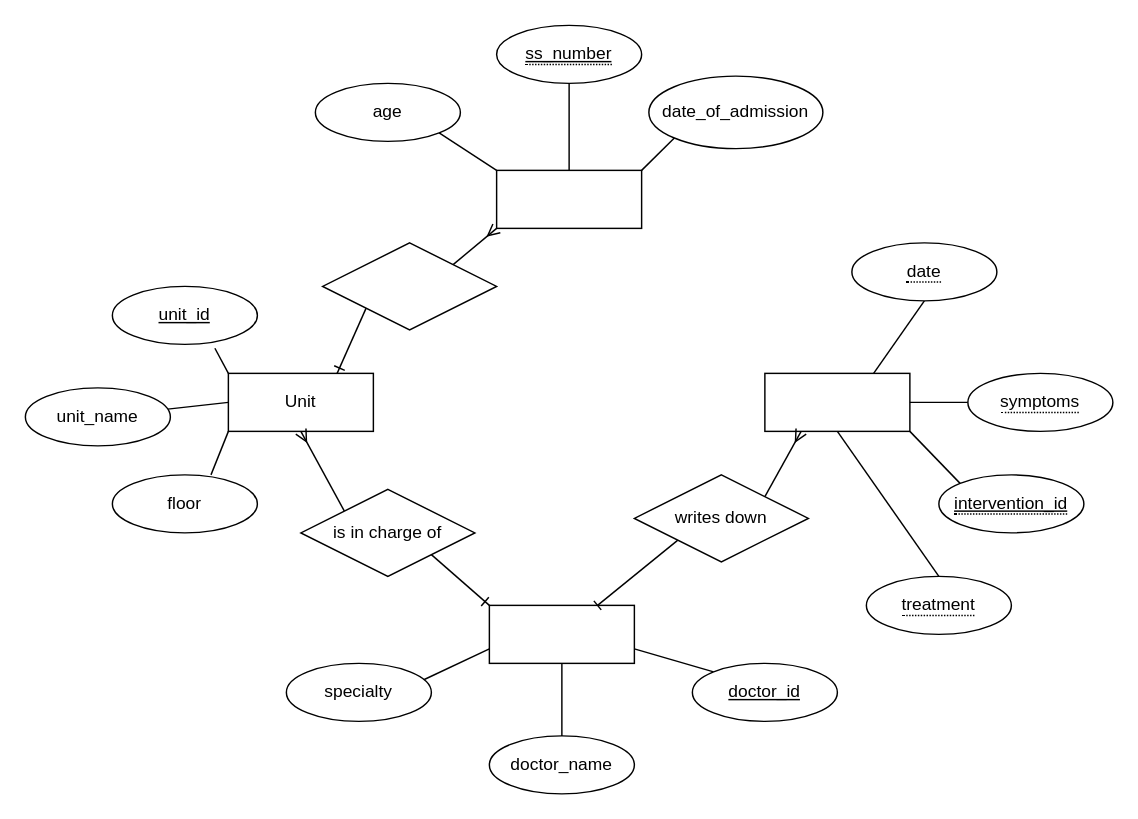
This 1138x819 diagram has some shape labels left out. The shapes that lost their labels are listed below. From the top down, each one's centre as x and y in pixels, then its label:
At point 568,198: "Patient".
At point 409,285: "admitted to".
At point 836,401: "Intervention".
At point 561,633: "Doctor".
